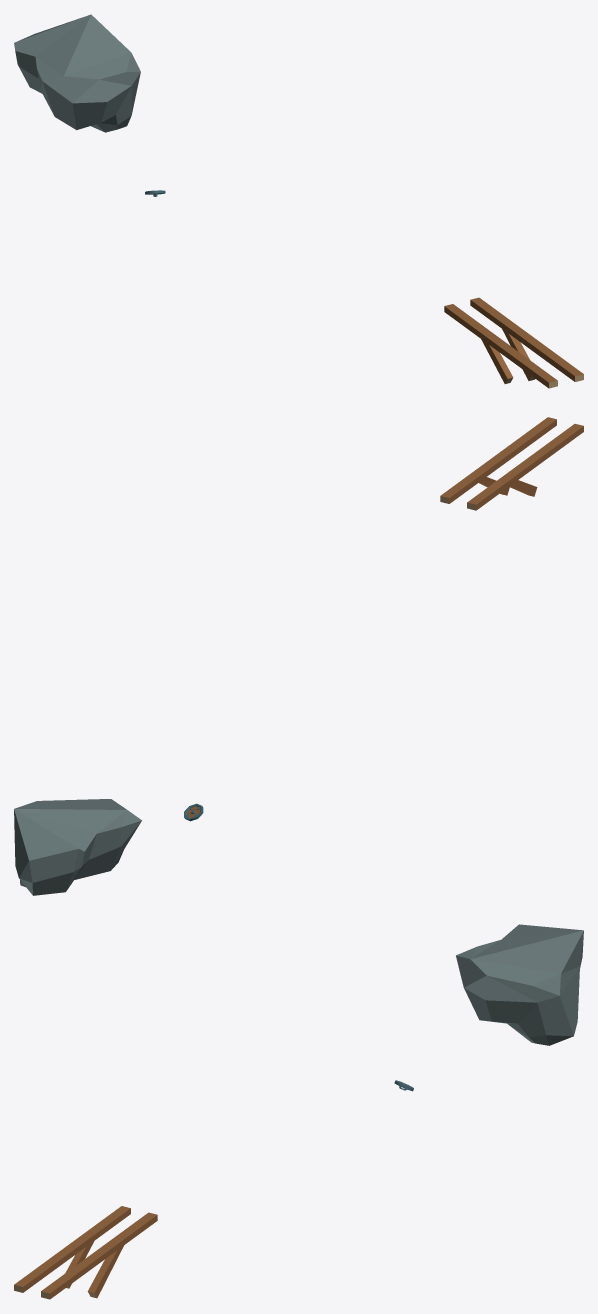
The picture shows the model from 3 angles, top to bottom: view 1: azimuth 30°, elevation 25°; view 2: azimuth 150°, elevation 25°; view 3: azimuth 330°, elevation 25°; orthographic projection. The views are drawn at different scales.
Parts seen in each view (by area): view 1: Box346_rock_0, Box15590_brown_0; view 2: Box346_rock_0, Box15590_brown_0; view 3: Box346_rock_0, Box15590_brown_0.
Boxes of the visible parts, bbox=[...] form: Box346_rock_0: bbox=[14, 14, 140, 132]; Box15590_brown_0: bbox=[444, 297, 583, 388]; Box346_rock_0: bbox=[14, 799, 141, 895]; Box15590_brown_0: bbox=[440, 417, 583, 510]; Box346_rock_0: bbox=[456, 924, 583, 1045]; Box15590_brown_0: bbox=[14, 1206, 157, 1299].
Bounding box in the file's own units: 456 × 444 × 4097.
